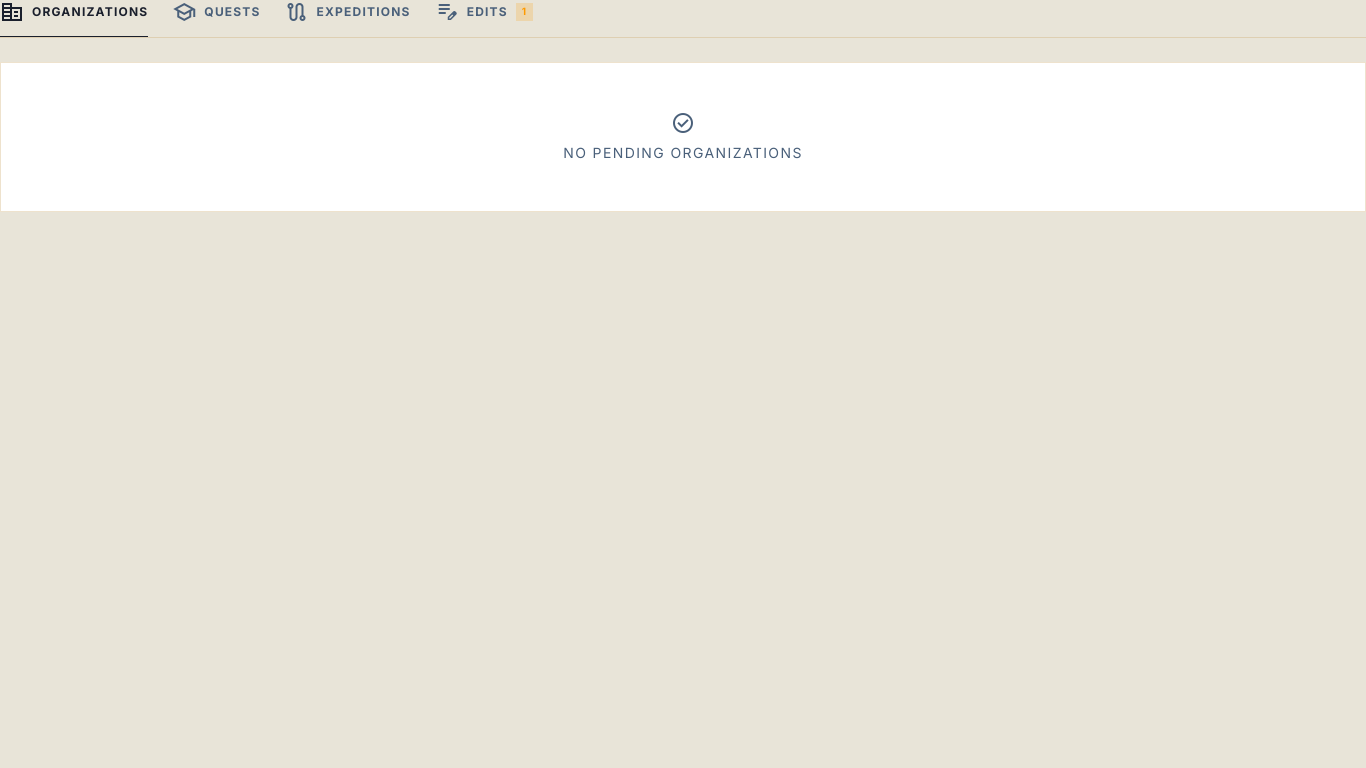
it: Edits tab — draft_data quests › closes the preview modal
Click the button "Edits 1".
click(484, 19)  # box [435,0,533,38]
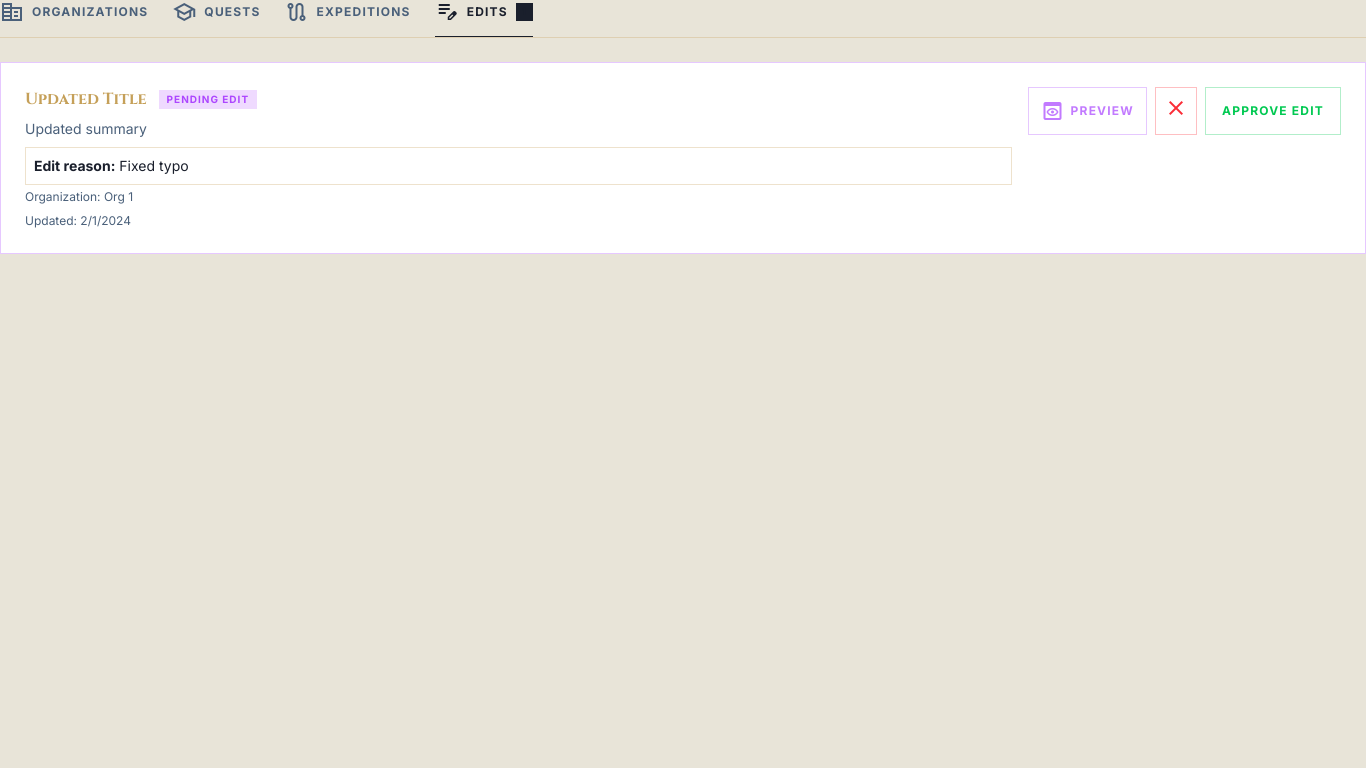
Click the button "Preview".
click(1087, 111)  # box [1028,87,1147,135]
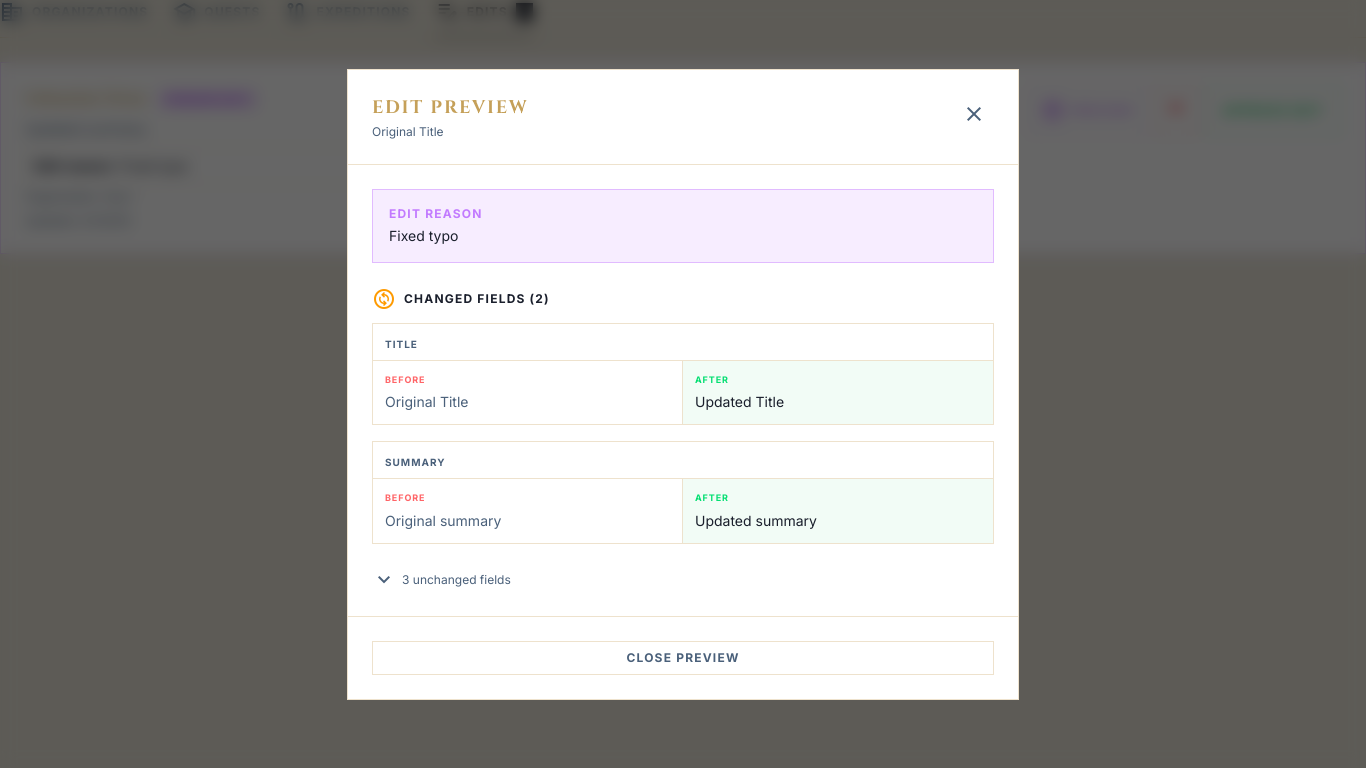
Result: the heading "Edit Preview" is shown at [372,94,528,122]
Note: Last close button is the footer "Close Preview" button
Click the button "Close Preview".
click(683, 658)  # box [372,640,994,674]
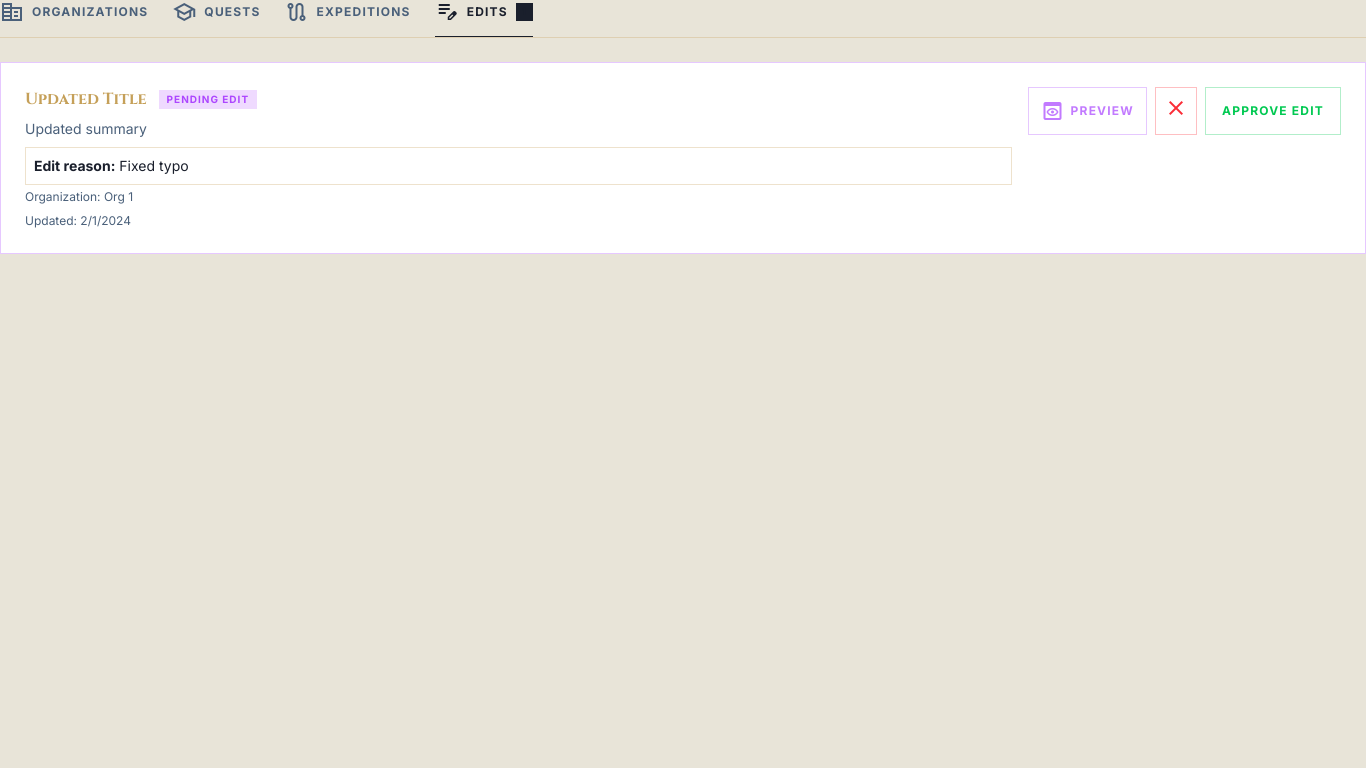
Result: the heading "Edit Preview" is gone
